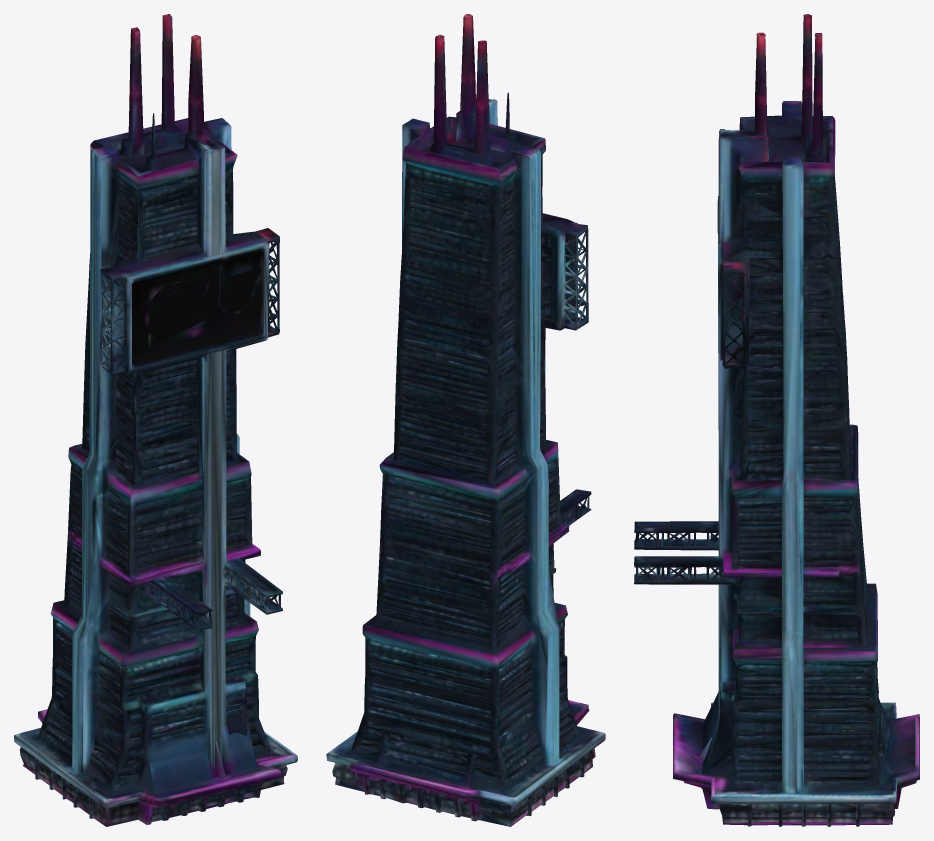
Rendered from tower-hero.glb.
3 renders of one model, left to right at view 1: azimuth 30°, elevation 25°; view 2: azimuth 150°, elevation 25°; view 3: azimuth 270°, elevation 25°, orthographic. The views are drawn at different scales.
Visible parts, largest first — view 1: material; view 2: material; view 3: material.
Part boxes in pixels (<box>): material: <box>14,14,297,826</box>; material: <box>326,14,605,826</box>; material: <box>634,14,919,826</box>.
Bounding box in the file's own units: 0.3015 × 1.13 × 0.3858.
Materials: 1 (1 with a texture image).
